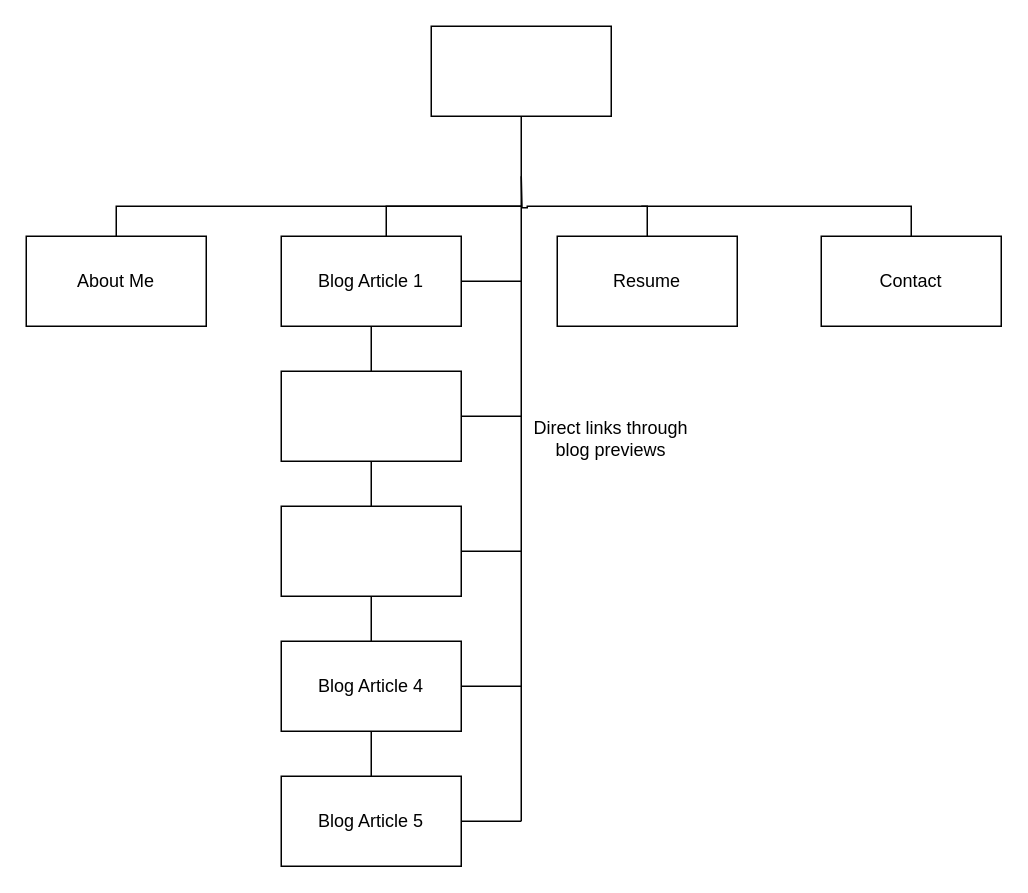
Image size: 1028x893. Some labels were removed from this diagram. The centre of each missing label's shape, as x and y in pixels:
"Blog Article 2" goes at (x=370, y=415).
"Blog Article 3" goes at (x=370, y=550).
"Home" goes at (x=520, y=70).
